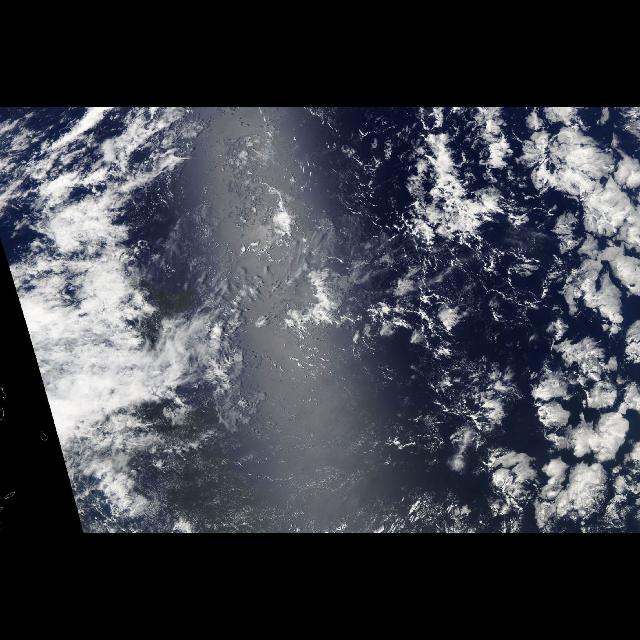Flower: (474, 108, 640, 528)
Sugar: (173, 135, 439, 522)
